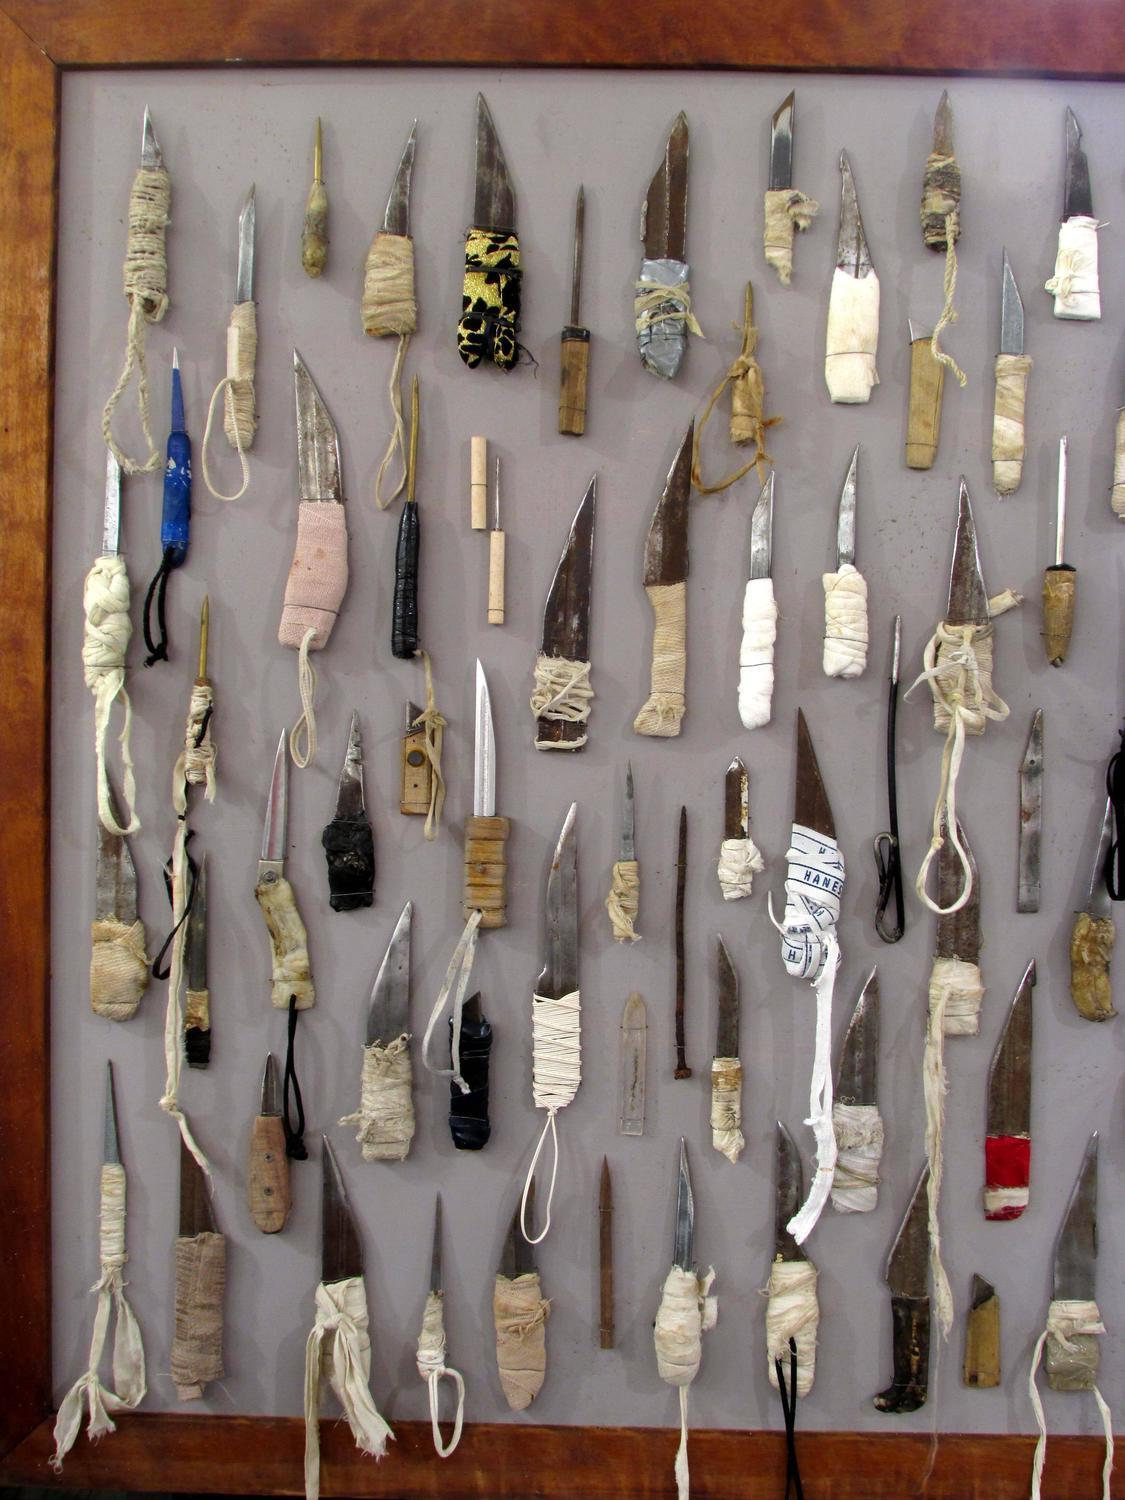faca: (311, 1140, 394, 1457), (917, 482, 1008, 736), (653, 1139, 717, 1499), (763, 1123, 820, 1499), (278, 351, 347, 652), (340, 902, 415, 1161), (633, 424, 692, 737), (529, 476, 596, 754), (254, 728, 314, 1032), (457, 94, 522, 371), (635, 112, 700, 379), (1042, 1136, 1105, 1393), (532, 803, 580, 1113), (824, 152, 880, 405), (171, 1147, 226, 1400), (874, 1172, 930, 1414), (830, 970, 884, 1214), (493, 1180, 550, 1410), (415, 1196, 464, 1457), (984, 963, 1032, 1221), (360, 122, 416, 341), (464, 659, 509, 930), (1045, 107, 1101, 320), (90, 828, 149, 1020), (822, 448, 869, 678), (739, 471, 778, 730), (765, 92, 817, 285), (723, 282, 779, 462), (321, 719, 373, 911), (991, 252, 1030, 496), (1069, 816, 1114, 1022), (225, 187, 256, 454), (391, 377, 420, 659), (710, 941, 744, 1163), (249, 1054, 290, 1233), (717, 756, 763, 901), (921, 93, 960, 252), (606, 764, 640, 943), (1016, 710, 1043, 913), (793, 710, 834, 837), (300, 118, 329, 278), (487, 459, 506, 625)
